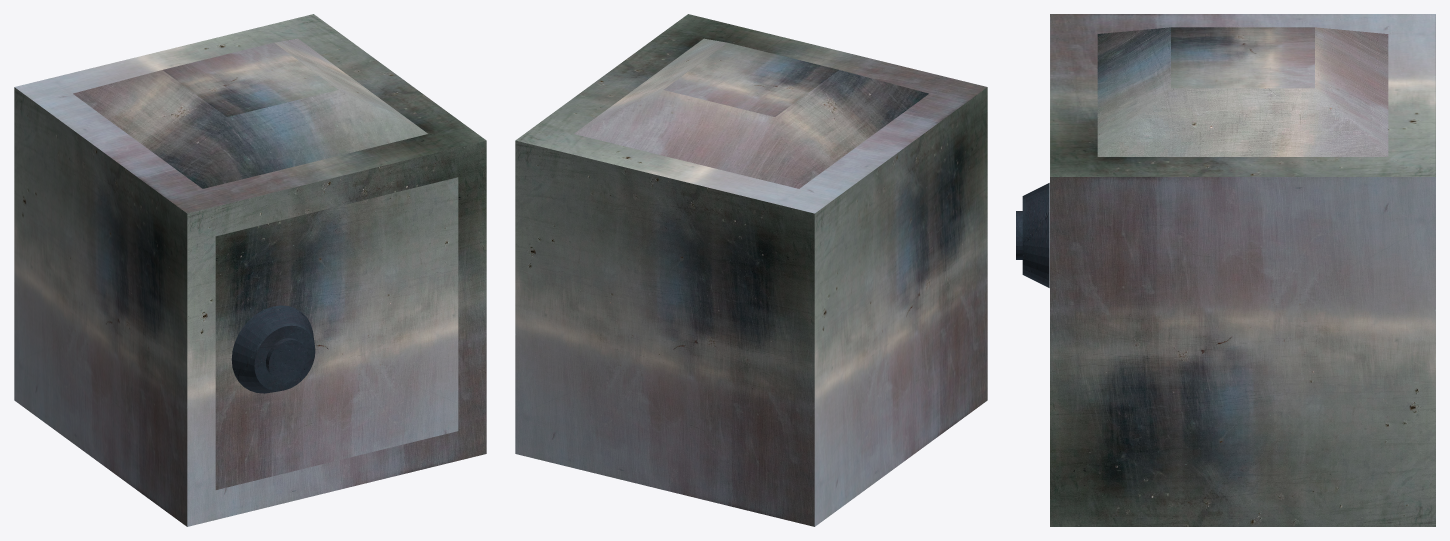
Rendered from caja_fuerte.fbx.
3 views of the same model, side by side, from view 1: azimuth 30°, elevation 25°; view 2: azimuth 150°, elevation 25°; view 3: azimuth 270°, elevation 25° (orthographic). The views are drawn at different scales.
Visible parts, largest first — view 1: Cube, Cube.001, Cylinder; view 2: Cube; view 3: Cube, Cylinder.
Boxes of the visible parts, <box> form: Cube: <box>14,14,486,526</box>; Cube.001: <box>215,177,458,489</box>; Cylinder: <box>231,305,315,393</box>; Cube: <box>515,14,987,526</box>; Cube: <box>1050,14,1435,526</box>; Cylinder: <box>1016,183,1049,287</box>.
Size of the model in its own units: 444 by 492 by 483.
